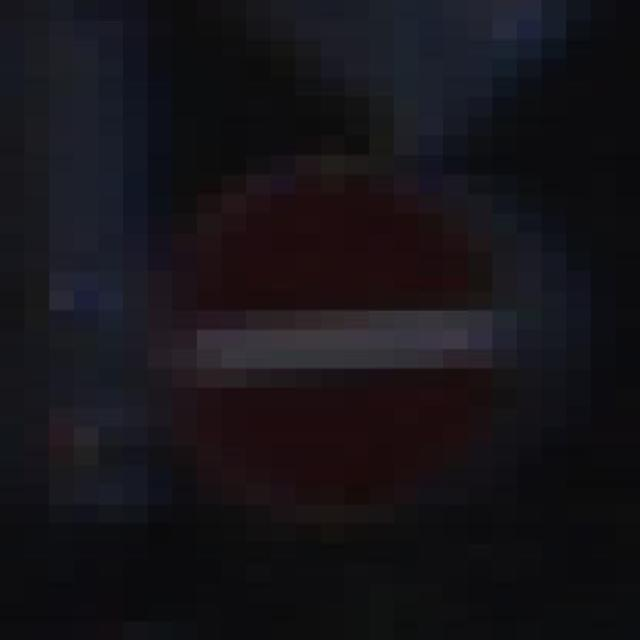B2: (151, 166, 517, 534)
